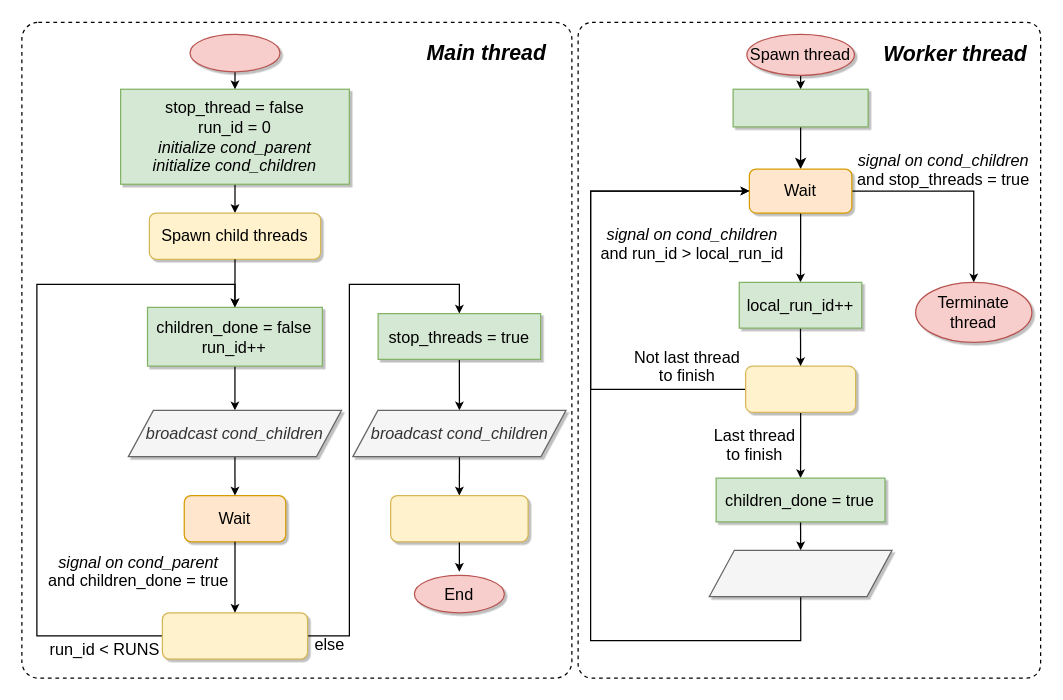
This 1063x700 diagram has some shape labels left out. Each missing label, with the centre of its shape:
"Execute BFS" goes at (801,390).
"Join child threads" goes at (460,519).
"local_run_id = 0" goes at (801,108).
"Process BFS result" goes at (235,637).
"signal cond_parent" goes at (801,574).
"Start" goes at (235,53).
